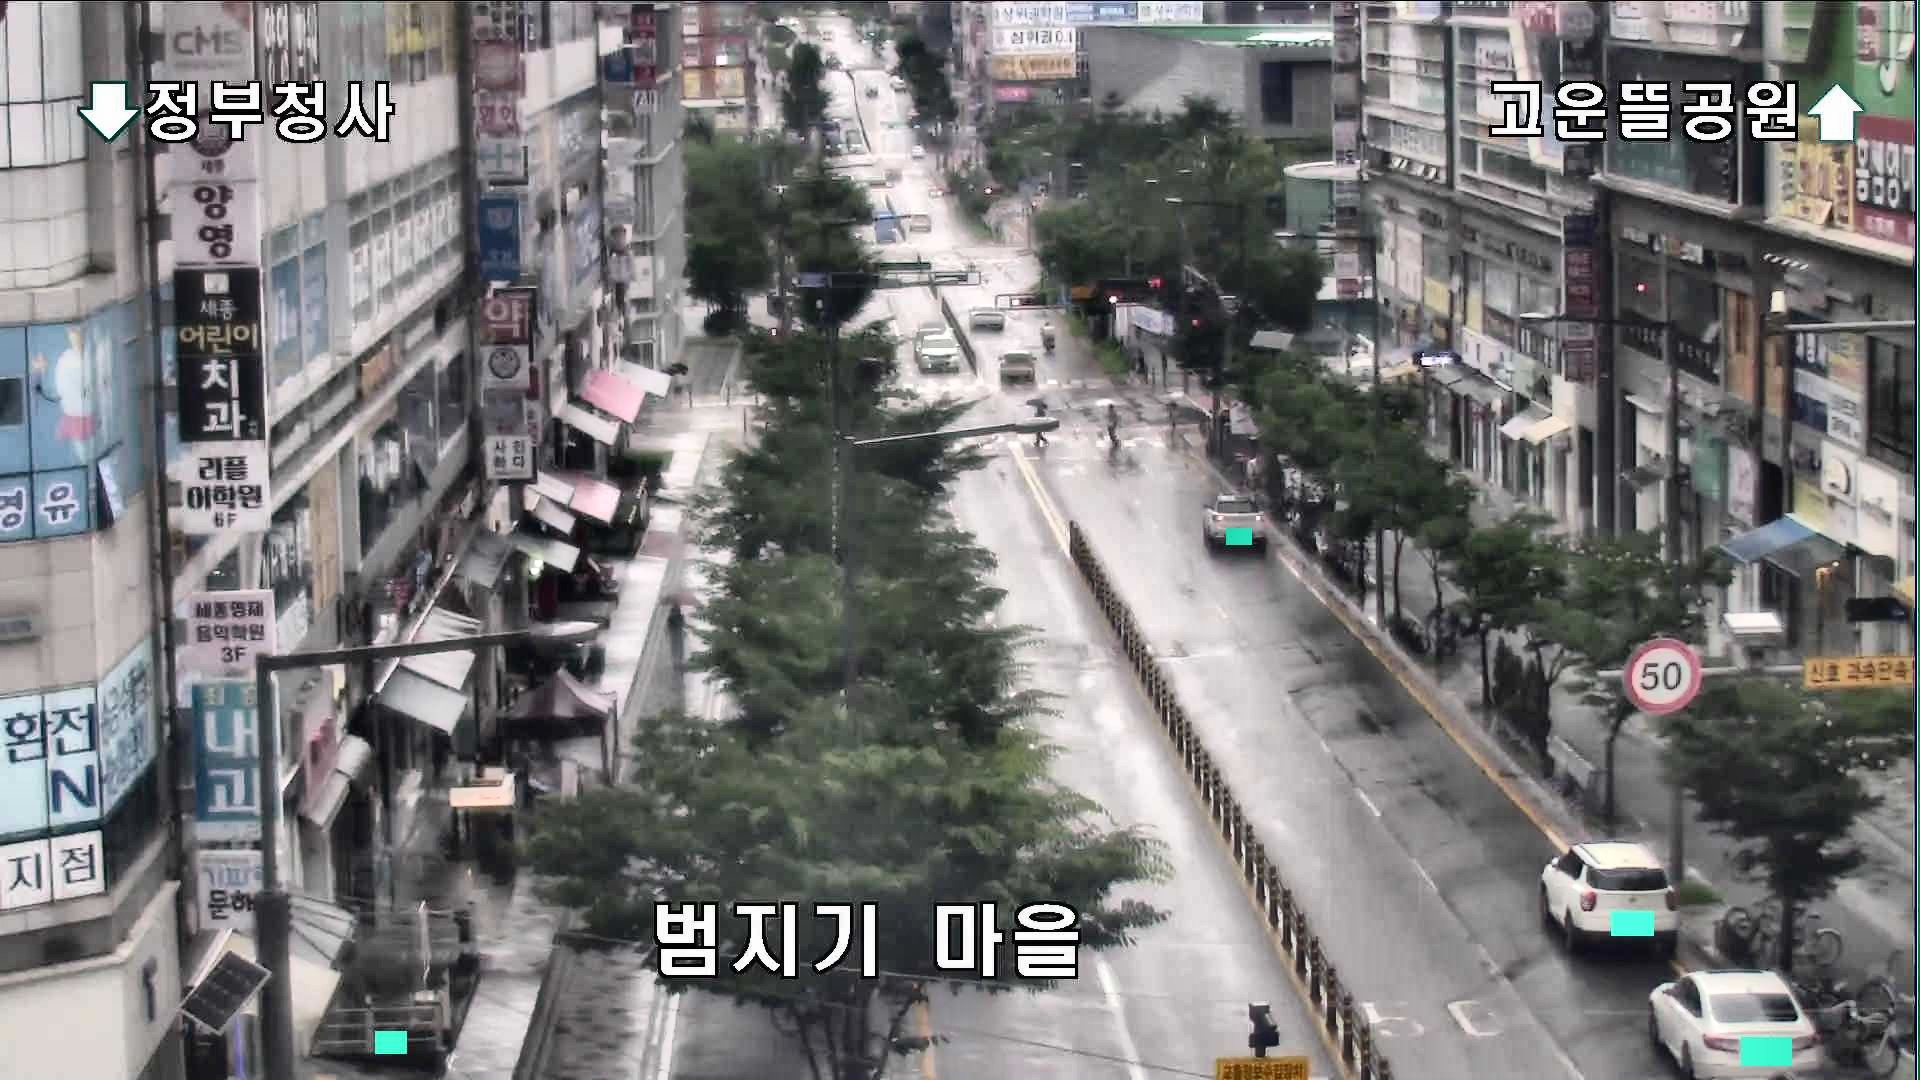um_crosswalk: (1025, 400, 1052, 448), (1163, 400, 1189, 448), (1105, 400, 1122, 446)
um_sidewalk: (663, 360, 691, 397)
